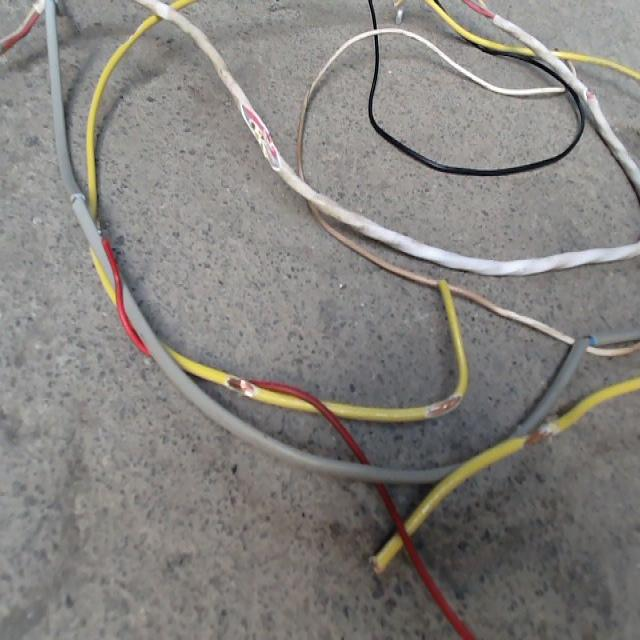-: (238, 104, 281, 169), (221, 373, 257, 399), (425, 392, 462, 417), (522, 419, 552, 448)
